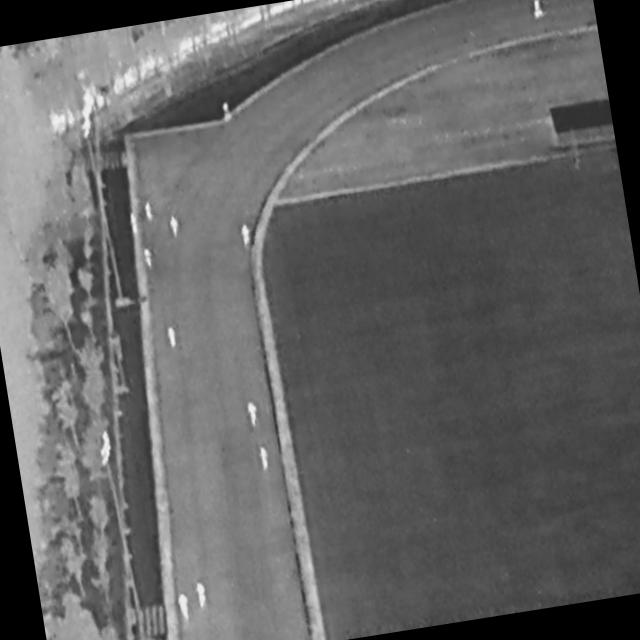person: (247, 400, 261, 430), (178, 592, 192, 621), (196, 582, 210, 609), (259, 445, 272, 474), (241, 224, 254, 250), (143, 245, 156, 270), (144, 199, 156, 224), (130, 211, 142, 236), (167, 327, 179, 349), (223, 101, 234, 124), (170, 215, 181, 237), (532, 1, 544, 20)
